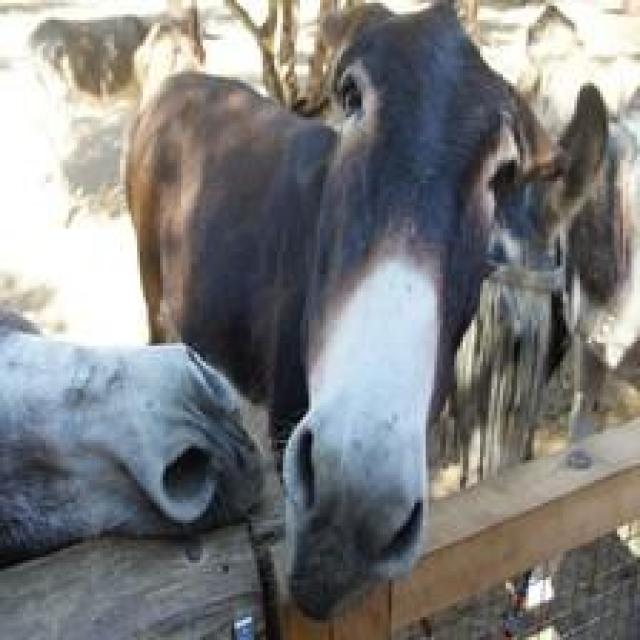Donkey: (277, 0, 609, 620), (0, 300, 266, 637), (123, 69, 337, 472), (514, 0, 637, 469)
